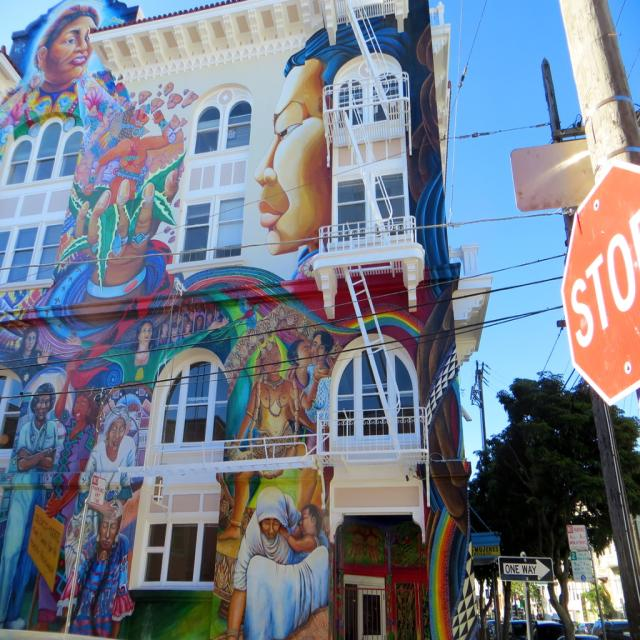Stop-sign: (559, 161, 640, 410)
